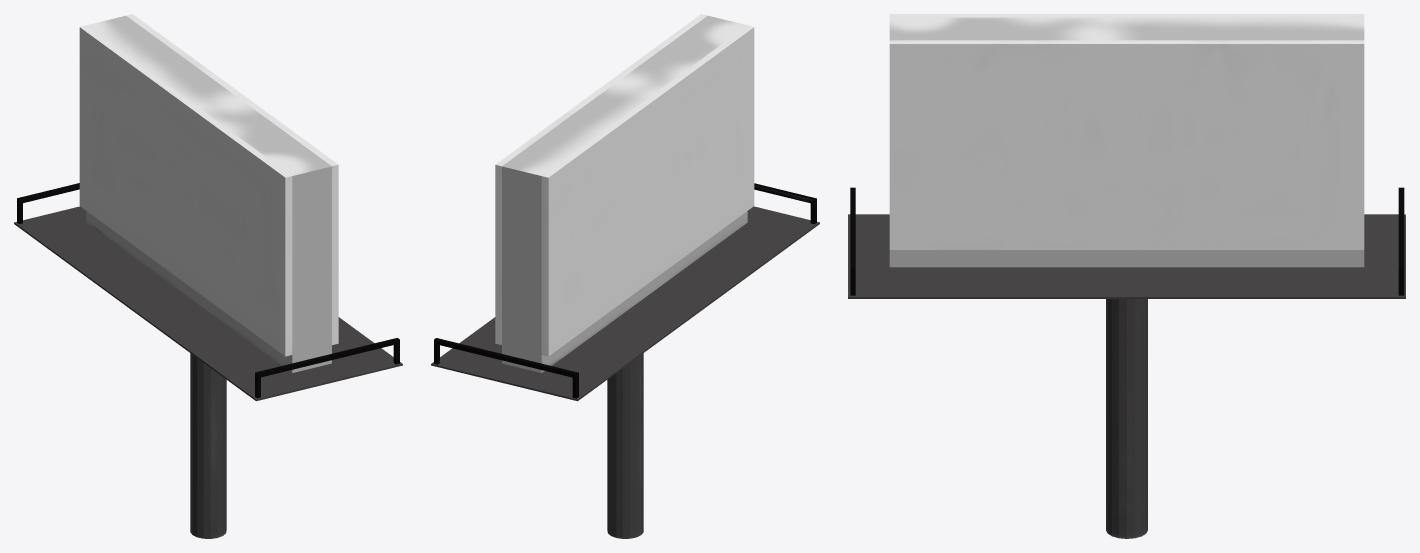
File: billboard.glb
3 renders of one model, left to right at view 1: azimuth 30°, elevation 25°; view 2: azimuth 150°, elevation 25°; view 3: azimuth 270°, elevation 25°, orthographic. The views are drawn at different scales.
Parts seen in each view (by area): view 1: Billboard; view 2: Billboard; view 3: Billboard.
Part boxes in pixels (left/top/right/bottom): Billboard: left=14, top=14, right=402, bottom=538; Billboard: left=431, top=14, right=819, bottom=538; Billboard: left=848, top=14, right=1405, bottom=538.
Bounding box in the file's own units: 9.27 × 26.31 × 26.52.
1 material, 1 textured.
